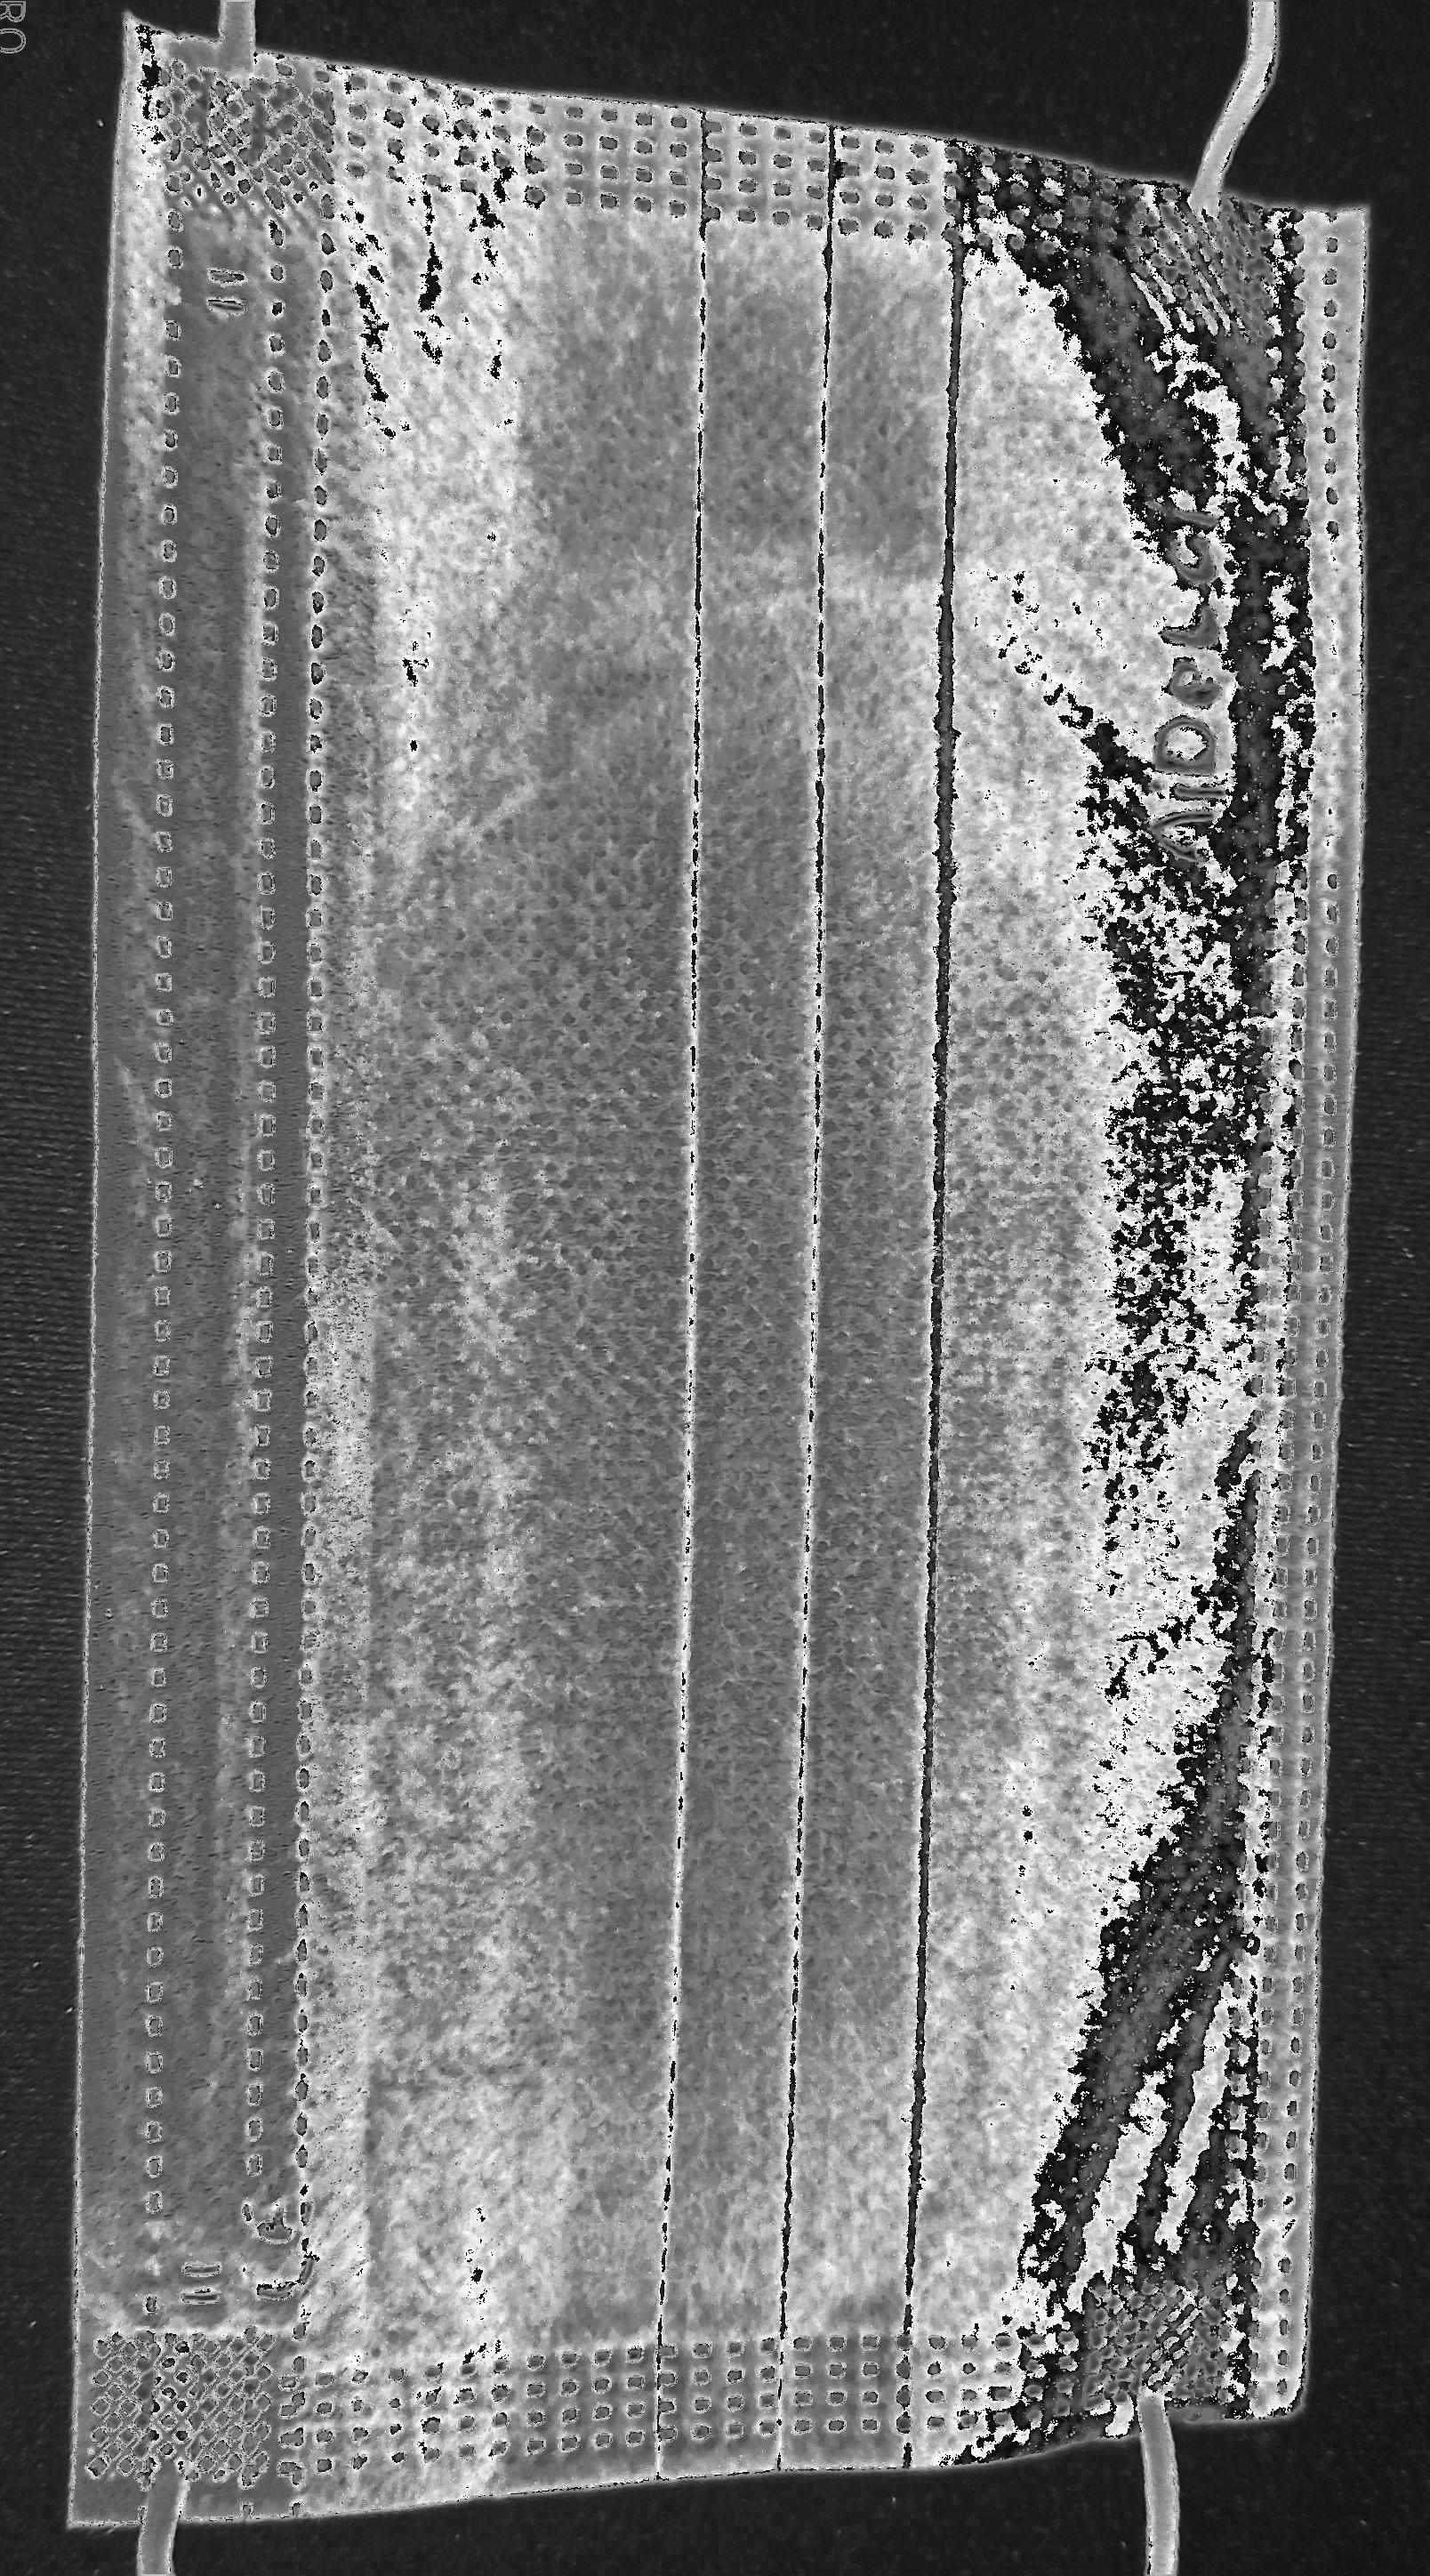Low GSM: (400, 264, 1222, 2241)
